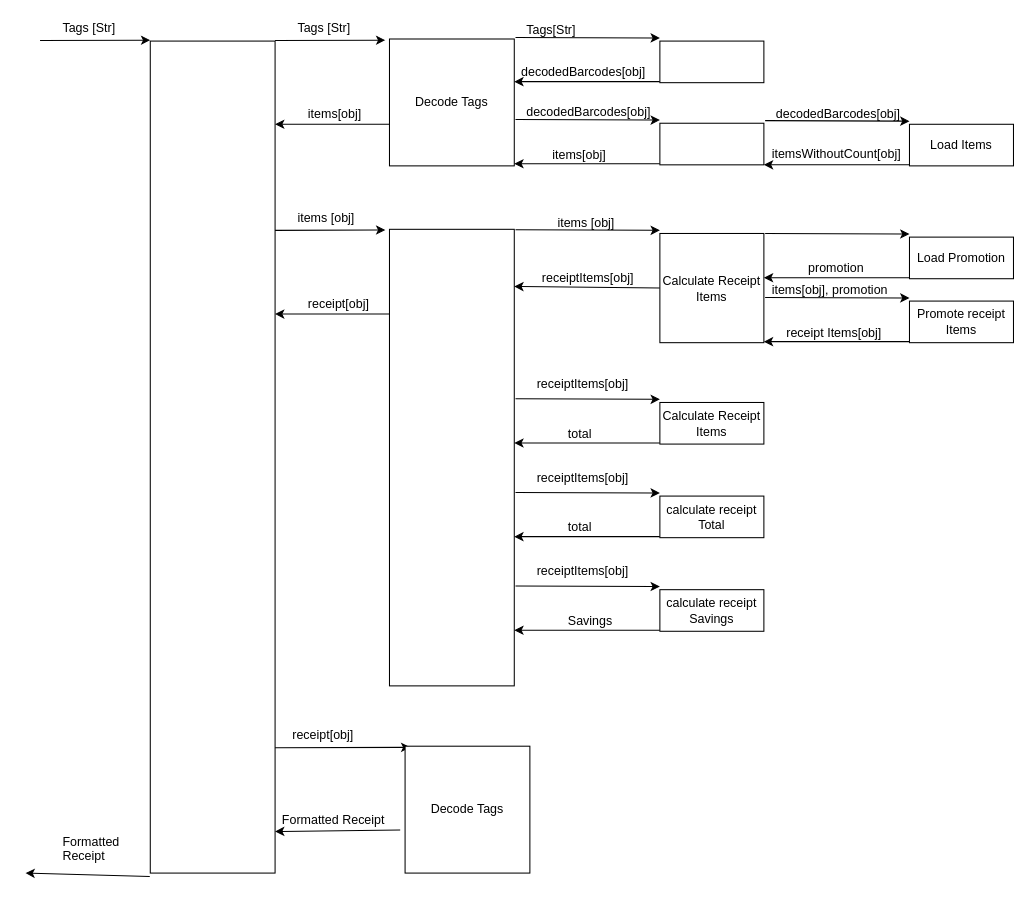
The diagram is 1032 pixels wide and 904 high, and some of its shapes have lost their labels. Here are the shapes that lost their labels. From the top down, the centre of each, then its label:
(711,61): decode Barcodes
(711,143): Combine Items
(212,456): Print Receipt
(451,457): Calculate Receipt
